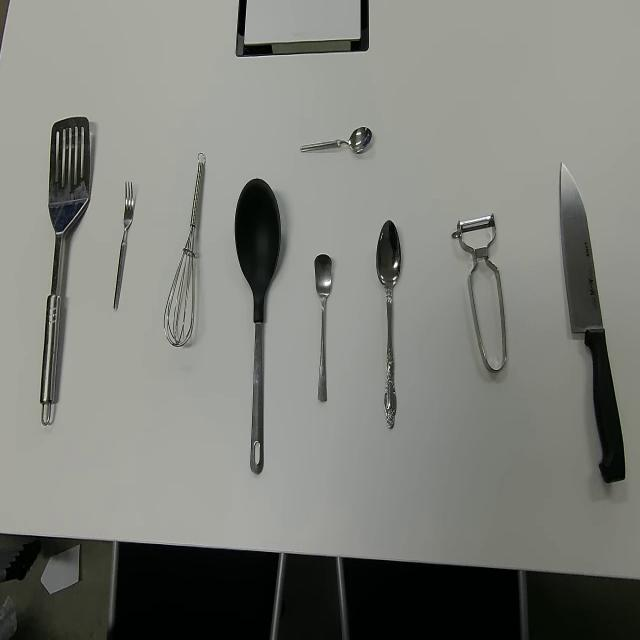Desert-Spoon: (375, 218, 402, 432)
Dinner-Fork: (112, 179, 134, 311)
Kitchen-Knife: (558, 160, 626, 485)
Peeler: (451, 212, 508, 376)
Serving-Spoon: (38, 115, 90, 426), (233, 177, 281, 476)
Tea-Spoon: (314, 253, 333, 404), (298, 125, 372, 155)
Whisk: (163, 151, 206, 348)
